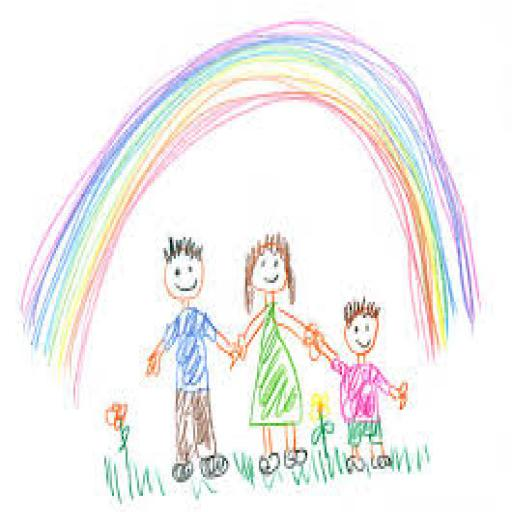person: (144, 222, 230, 490), (231, 226, 313, 483), (318, 289, 408, 474)
